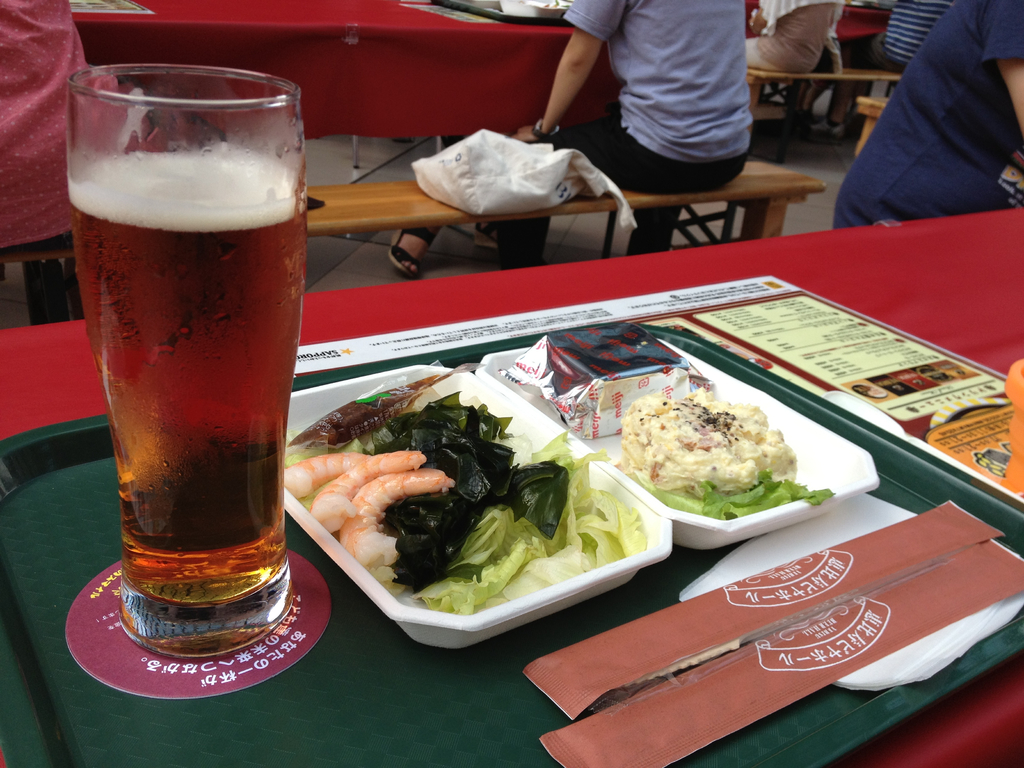Beer: (66, 148, 306, 611)
